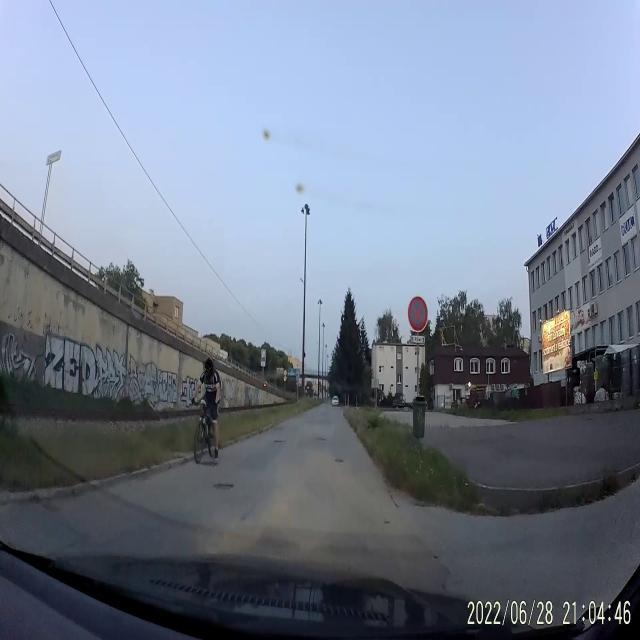Pothole: (210, 480, 238, 494), (203, 458, 219, 469), (272, 437, 284, 445), (314, 434, 326, 442), (381, 518, 391, 527), (334, 458, 344, 465)
